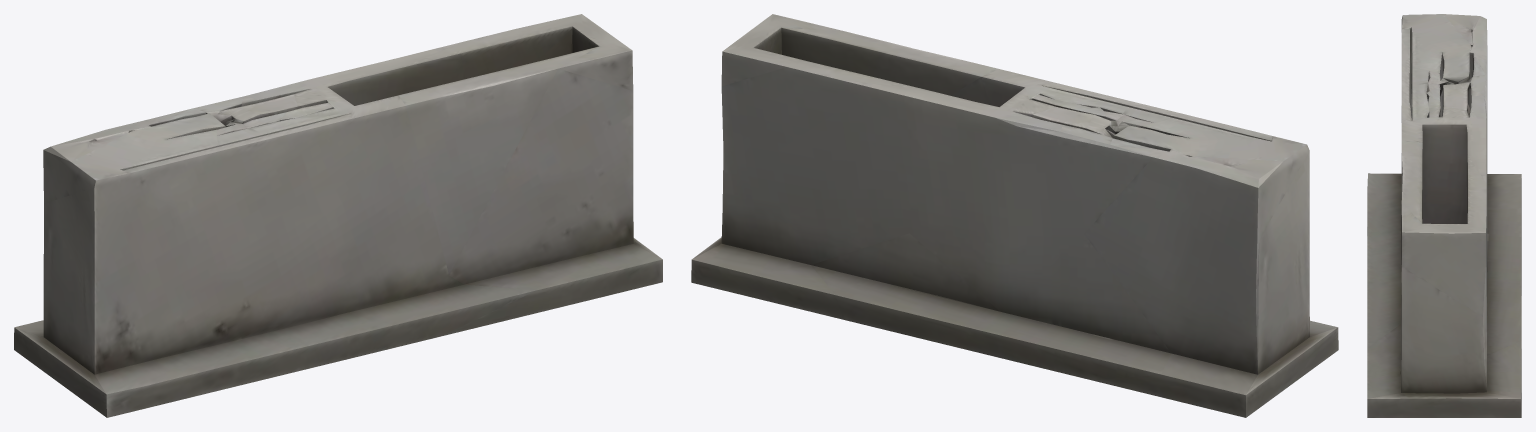
File: fw_prop_barrier_jersey_a.glb
The picture shows the model from 3 angles, left to right: view 1: azimuth 30°, elevation 25°; view 2: azimuth 150°, elevation 25°; view 3: azimuth 270°, elevation 25°; orthographic projection. The views are drawn at different scales.
Parts seen in each view (by area): view 1: model; view 2: model; view 3: model.
Part boxes in pixels (box(x1,y1,x2,y2)): model: box(14, 14, 662, 417); model: box(691, 14, 1338, 417); model: box(1367, 14, 1521, 417).
Bounding box in the file's own units: 3 × 1.14 × 0.8695.
Materials: 1 (1 with a texture image).
